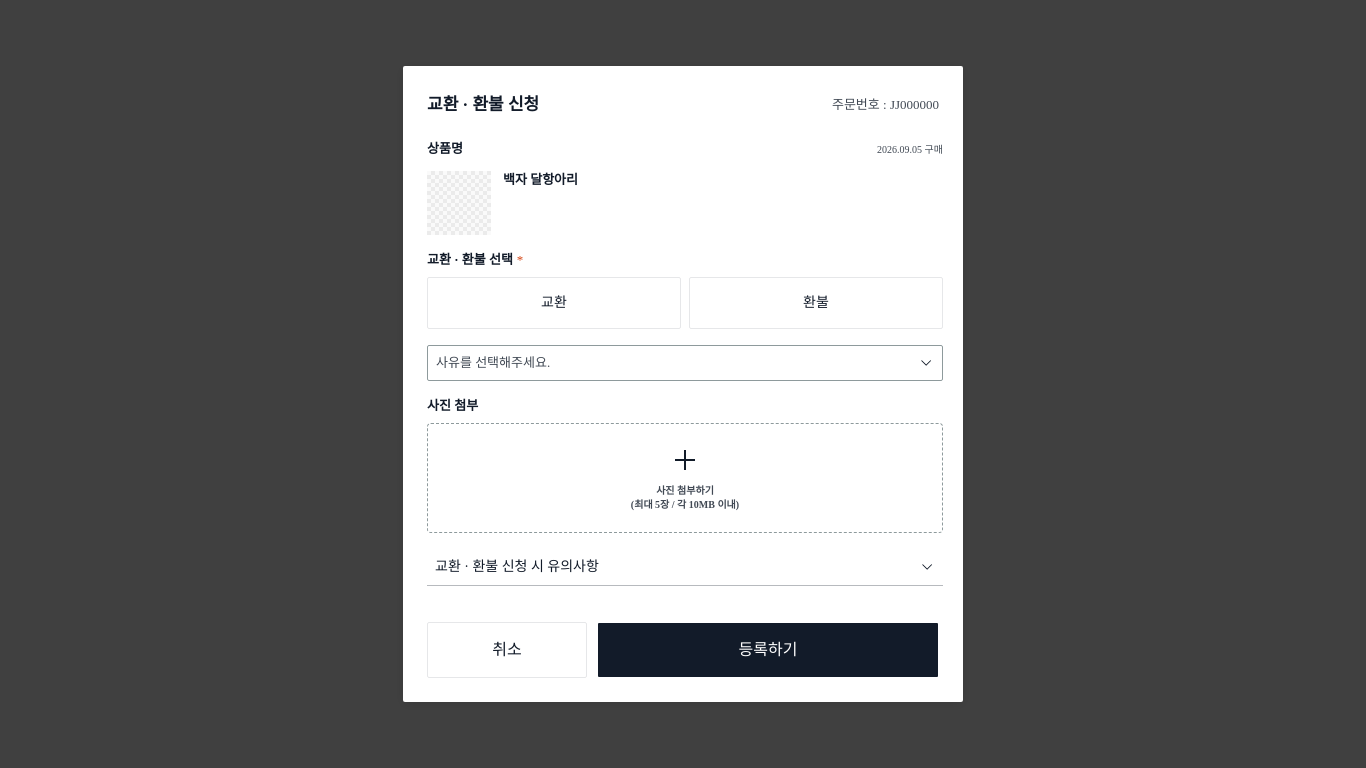
Test: OrderExchangeRefundRequestModal › 교환/환불을 고르지 않으면 제출되지 않는다
Click the button "등록하기" at [768, 650], box [597, 622, 939, 678]
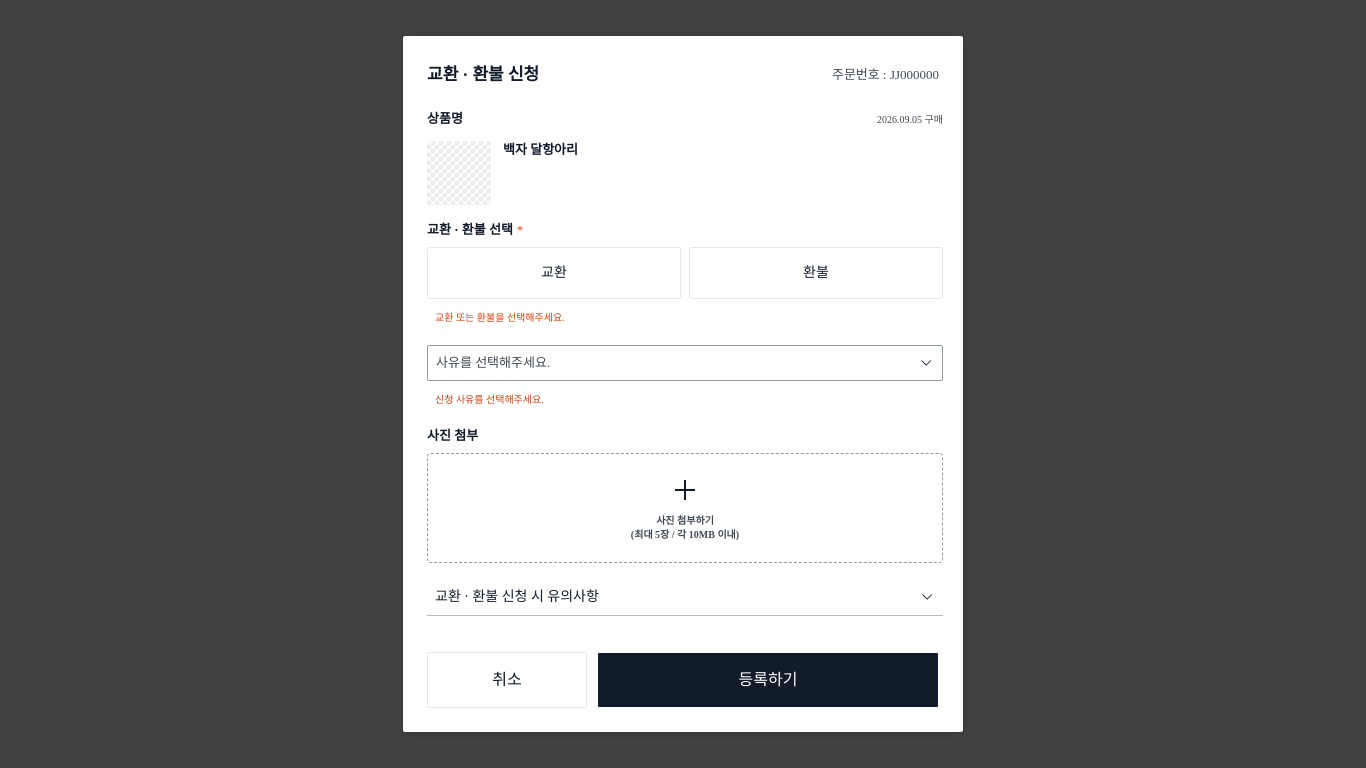
Check: the text "교환 또는 환불을 선택해주세요." is shown, box [435, 312, 565, 323]
